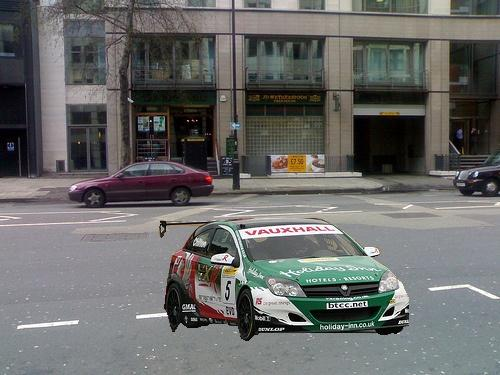tampered: (160, 219, 409, 341)
